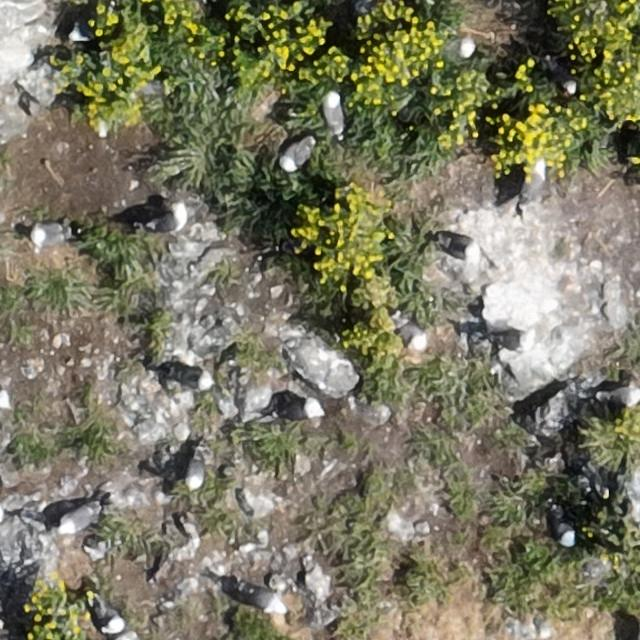umineko: (518, 158, 546, 212), (140, 203, 188, 232), (282, 398, 328, 422), (398, 317, 428, 350), (498, 328, 538, 351), (60, 506, 95, 532), (282, 140, 312, 170), (243, 588, 282, 610), (548, 61, 575, 92), (172, 368, 211, 388), (325, 95, 344, 134), (32, 226, 69, 246), (440, 235, 473, 257), (597, 387, 637, 405), (446, 39, 477, 60), (555, 514, 575, 546), (101, 606, 123, 632), (188, 458, 205, 488), (71, 26, 93, 40)
